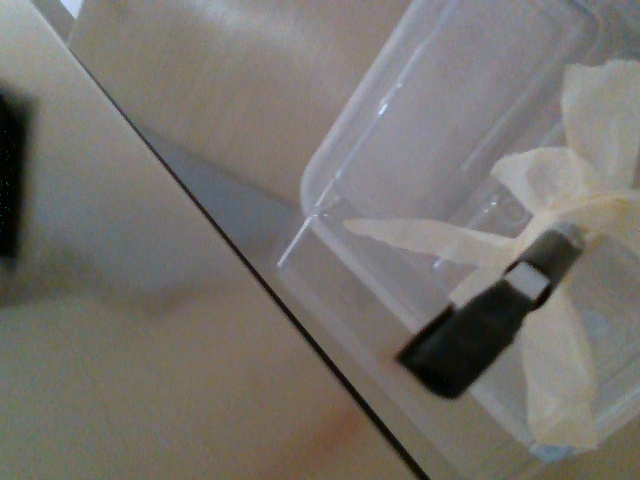test_strip: (390, 260, 546, 402)
